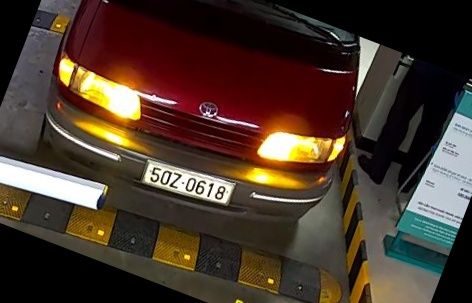plate: (142, 148, 236, 213)
